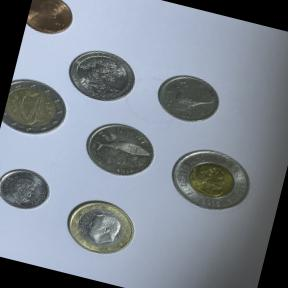coin: (155, 136, 265, 230), (70, 110, 168, 193), (49, 186, 148, 268), (59, 40, 147, 112), (0, 72, 74, 146), (0, 158, 60, 222), (22, 0, 85, 49)
